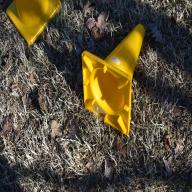cone: (82, 23, 145, 134), (6, 0, 61, 45)
